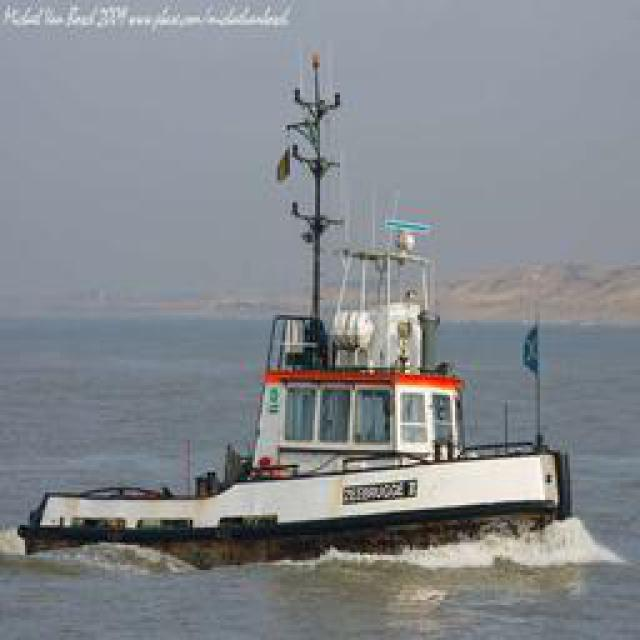Ship: (29, 221, 572, 554)
